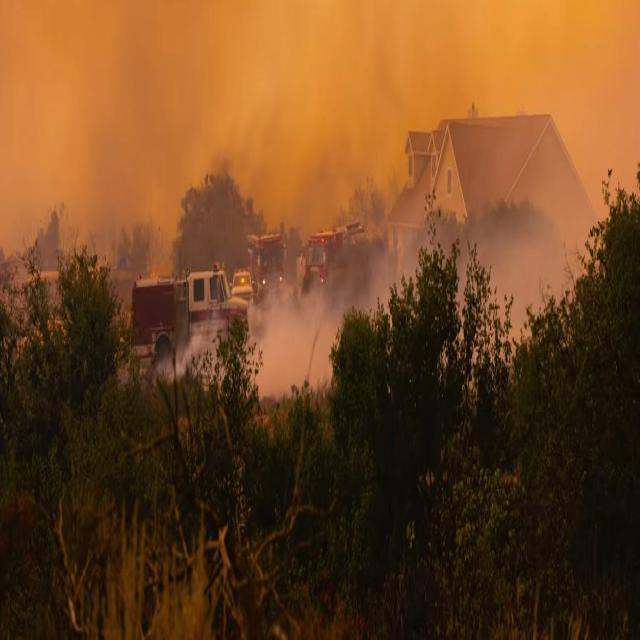Smoke: (171, 226, 568, 385)
